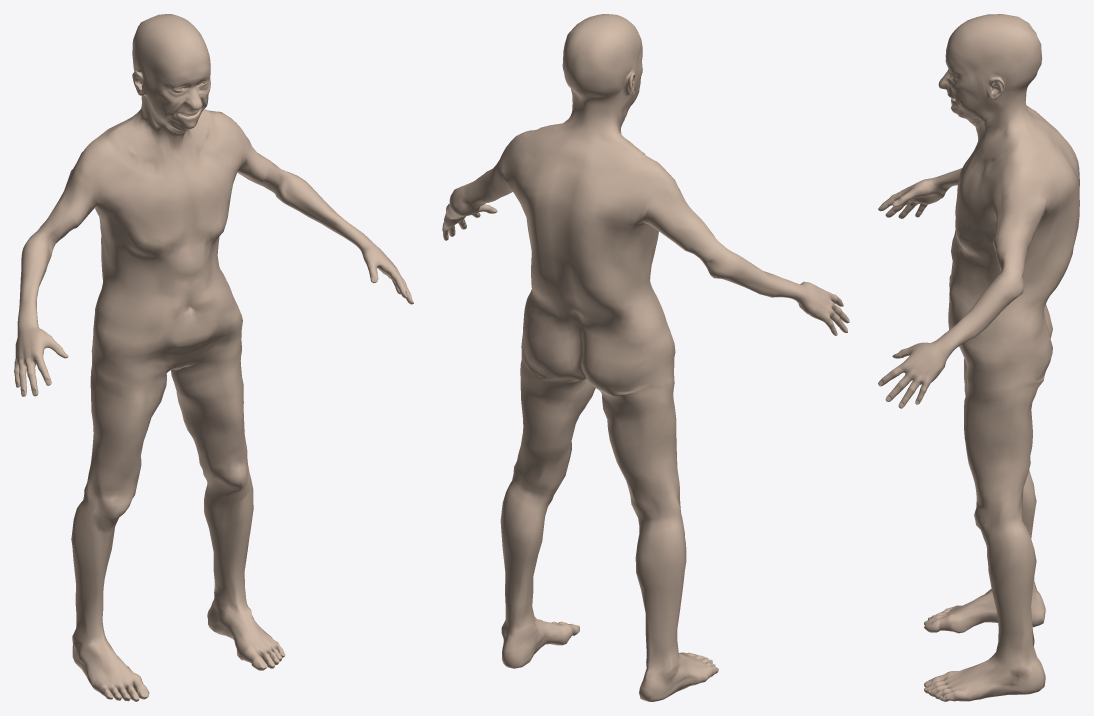
The model's file is itsedeeku.fbx.
3 views of the same model, side by side, from view 1: azimuth 30°, elevation 25°; view 2: azimuth 150°, elevation 25°; view 3: azimuth 270°, elevation 25° (orthographic).
Parts seen in each view (by area): view 1: male_genericMesh; view 2: male_genericMesh; view 3: male_genericMesh.
Boxes of the visible parts, <box> form: male_genericMesh: <box>14,14,413,701</box>; male_genericMesh: <box>442,14,849,701</box>; male_genericMesh: <box>878,14,1079,701</box>.
Bounding box in the file's own units: 843 × 1322 × 376.
